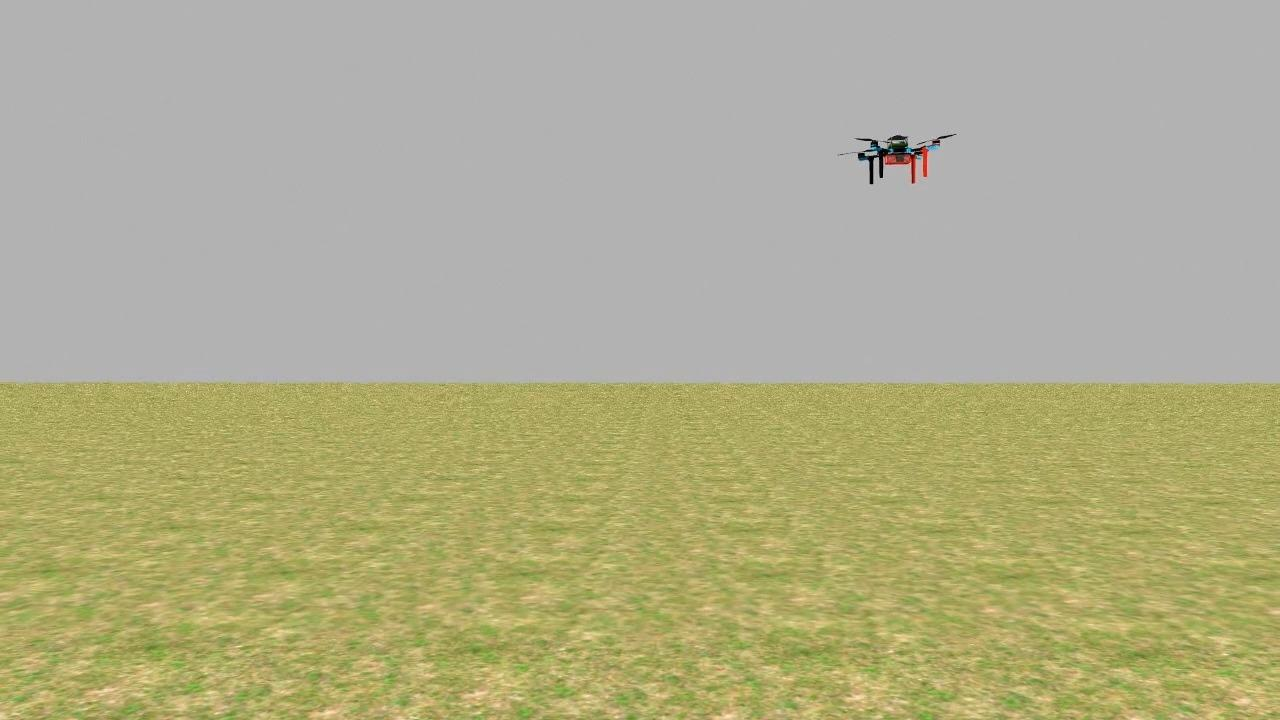UAV: (846, 116, 952, 186)
